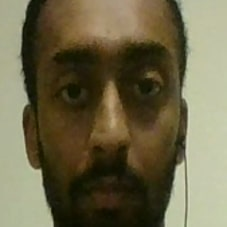awake: (44, 34, 175, 214)
